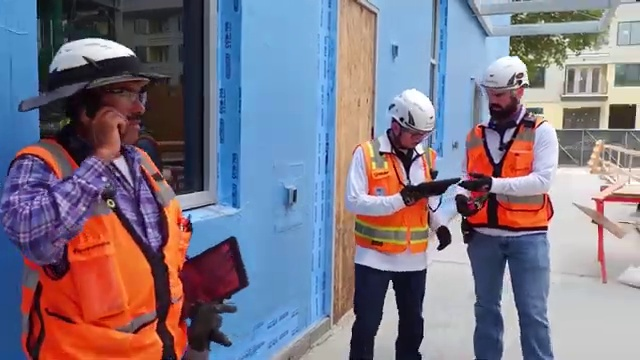helmet: (30, 22, 159, 107), (378, 86, 455, 132), (480, 51, 534, 93)
jacket: (3, 131, 211, 360), (459, 109, 566, 238), (343, 134, 438, 257)
